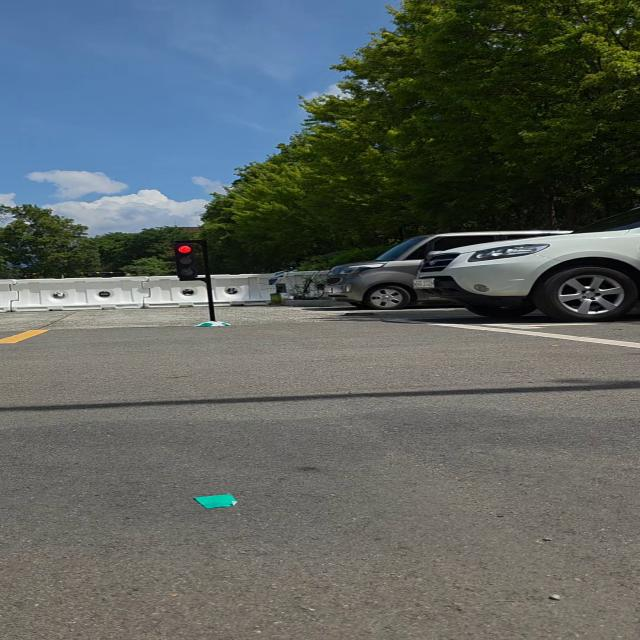red: (172, 241, 204, 279)
